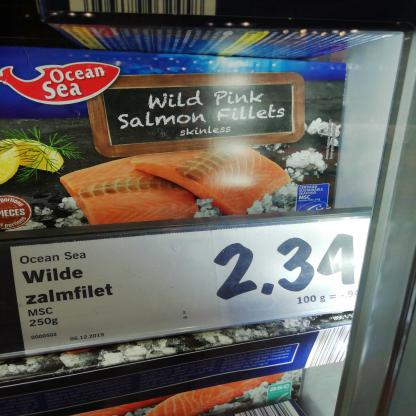prtg: (11, 220, 371, 355)
